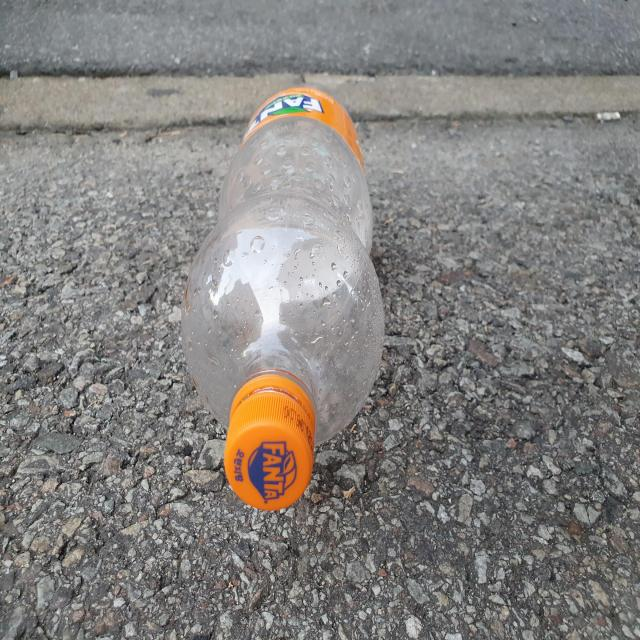plastic: (181, 86, 384, 511)
